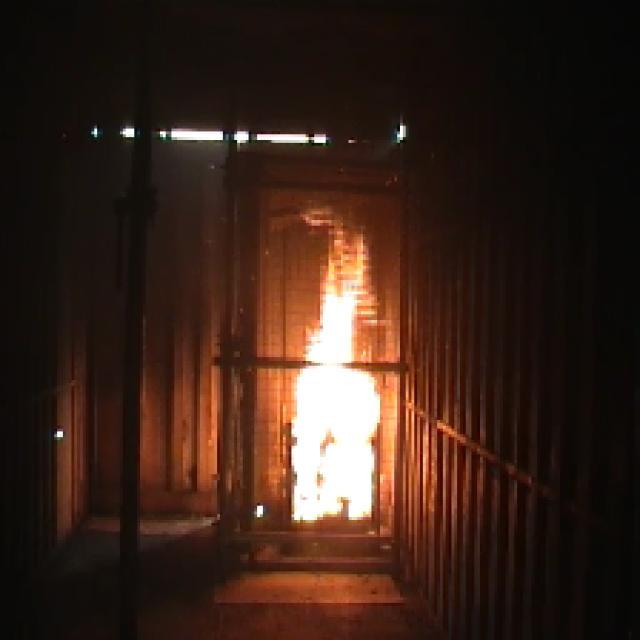Smoke: (291, 228, 381, 534)
